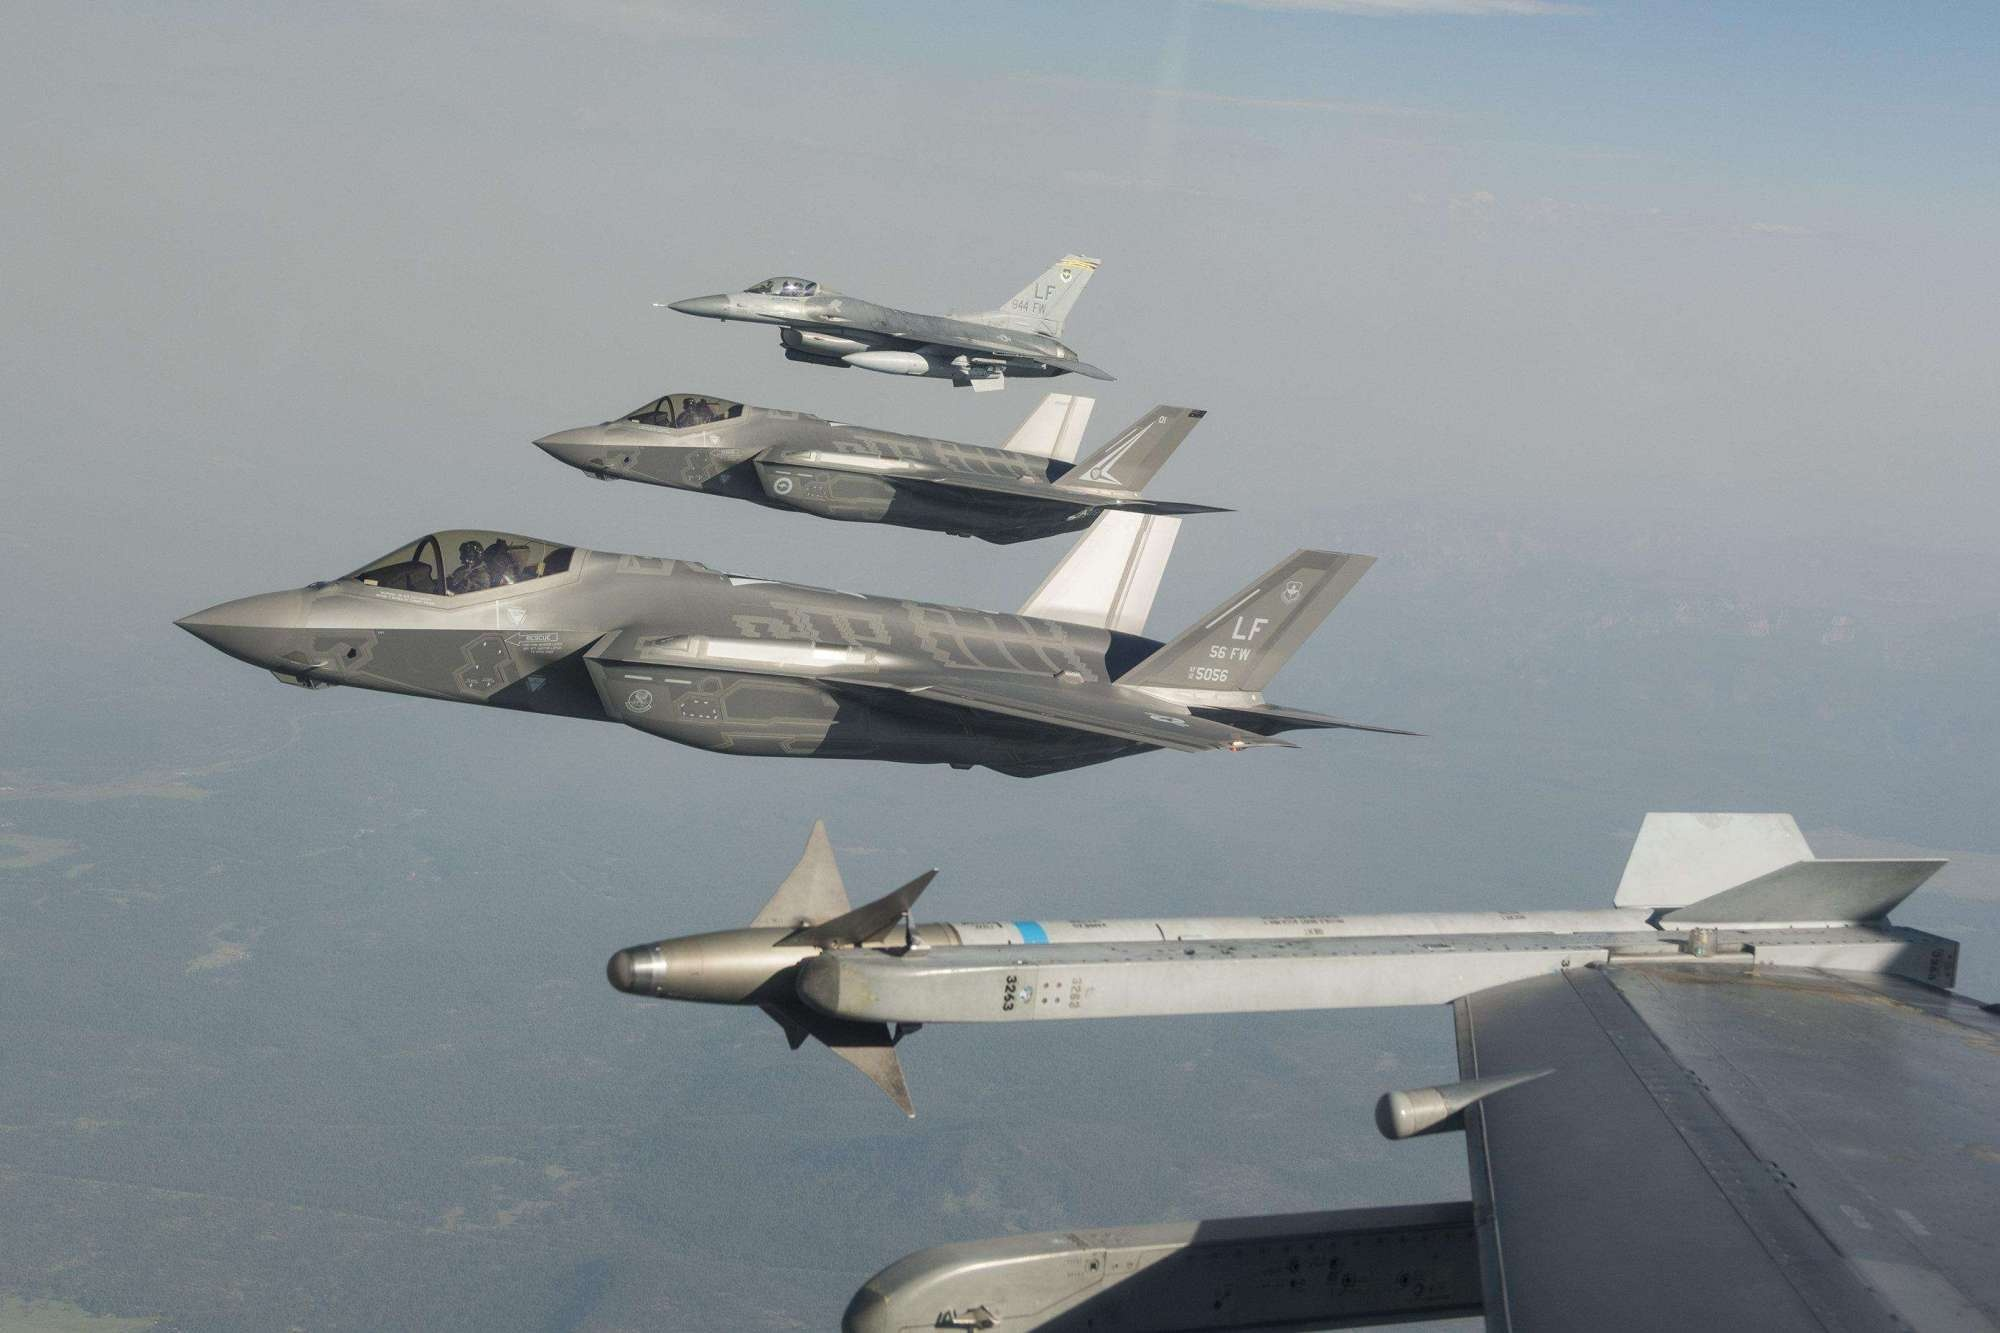airplane: (593, 783, 1969, 1117), (161, 527, 1430, 780), (531, 357, 1236, 562), (681, 257, 1126, 405)
